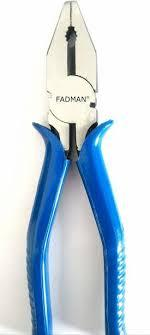pliers: (24, 0, 126, 334)
